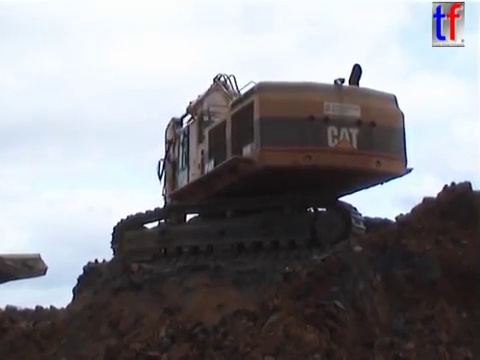excavator: (107, 60, 418, 268)
truck: (1, 250, 51, 289)
